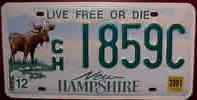placa de veiculo: (2, 0, 190, 99)
